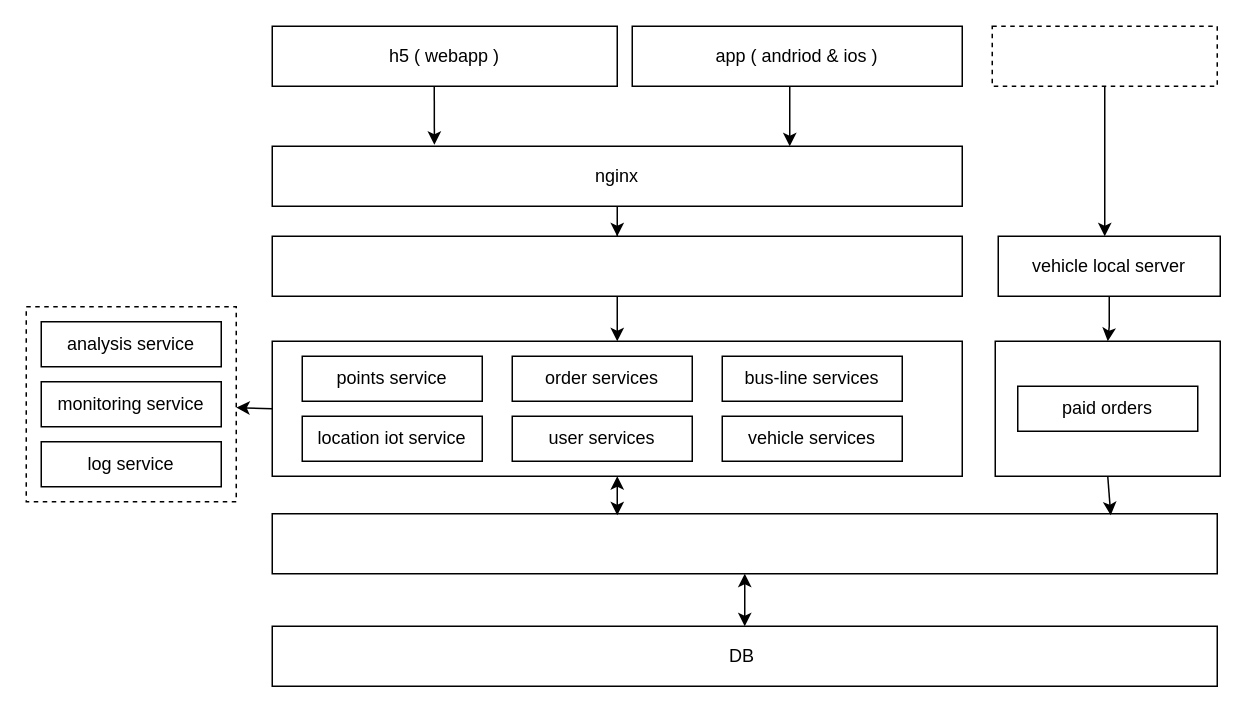
Image size: 1247x713. Some labels were removed from this diagram. Here are the shapes that lost their labels. From the top down, the centre of each, then its label:
At pixel 1104 55: "driver pad".
At pixel 616 265: "web server cluster".
At pixel 744 543: "Redis".
